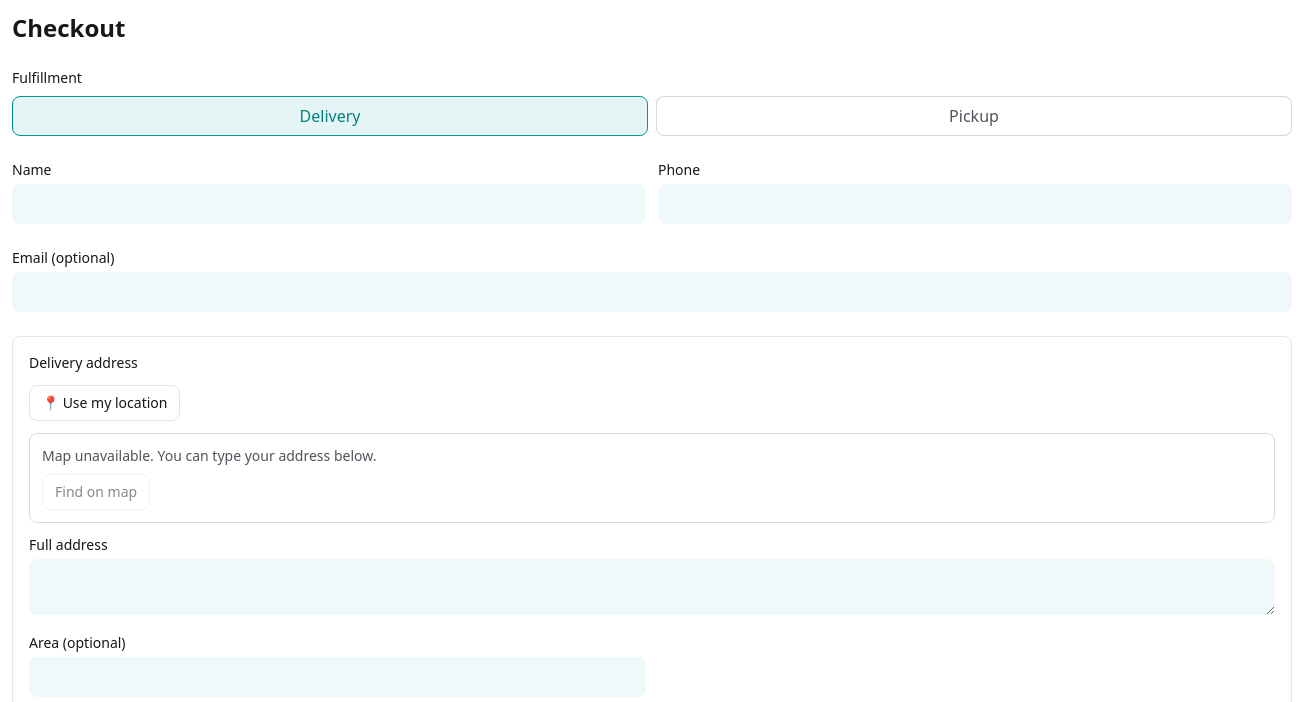
Test: fulfilment selector (single layout) › both: shows the Delivery/Pickup toggle, delivery by default, and switching swaps the fields
Check: the text "Delivery address" is shown, box [29, 353, 138, 372]
Click the button "Pickup" at [974, 116], box [656, 96, 1292, 136]
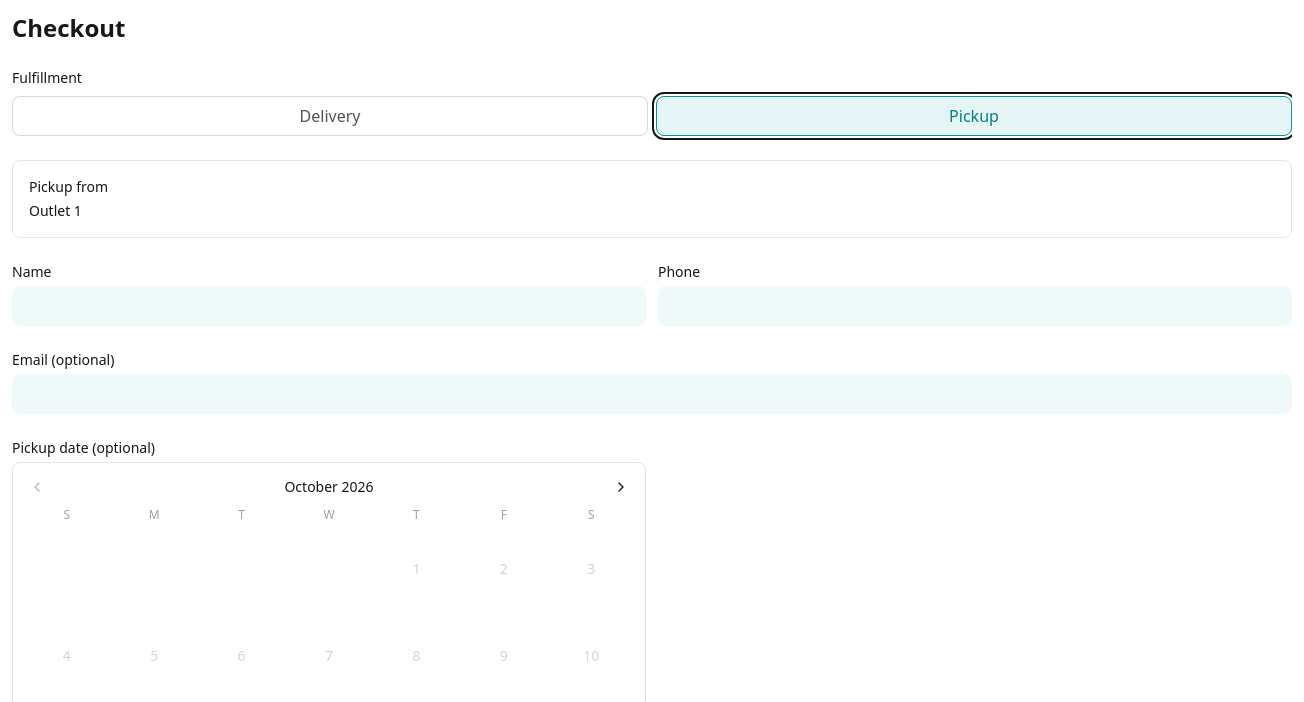
Check: the text "Delivery address" is gone
Check: the element with test id "pickup-details" is shown, box [12, 160, 1292, 238]
